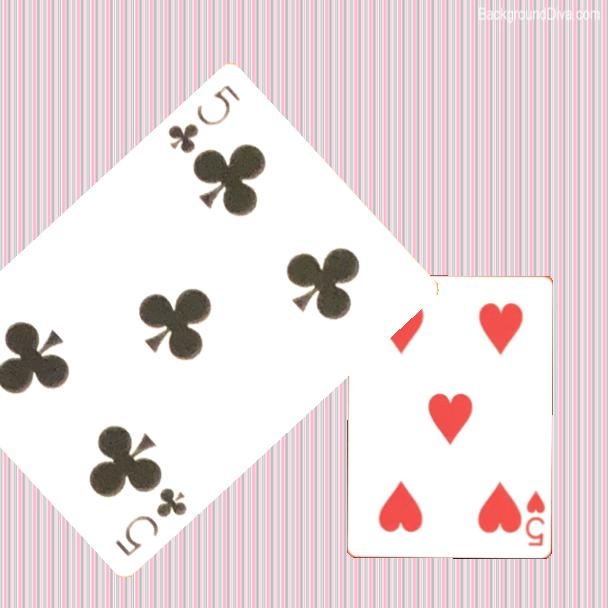c05: (164, 80, 243, 156), (111, 483, 190, 559)
h05: (522, 487, 547, 549)
